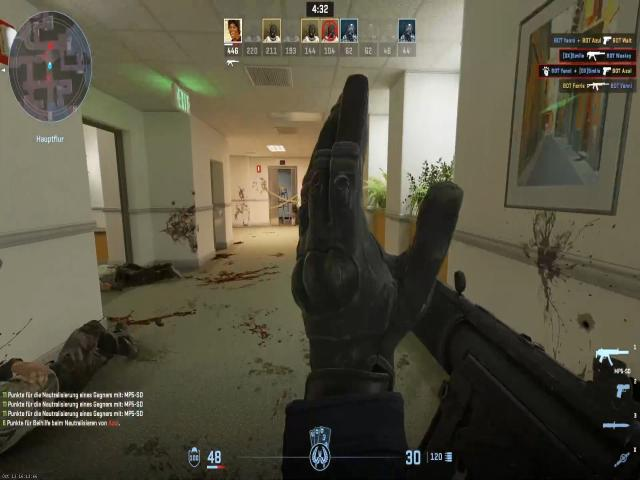Dead: (96, 254, 172, 288)
